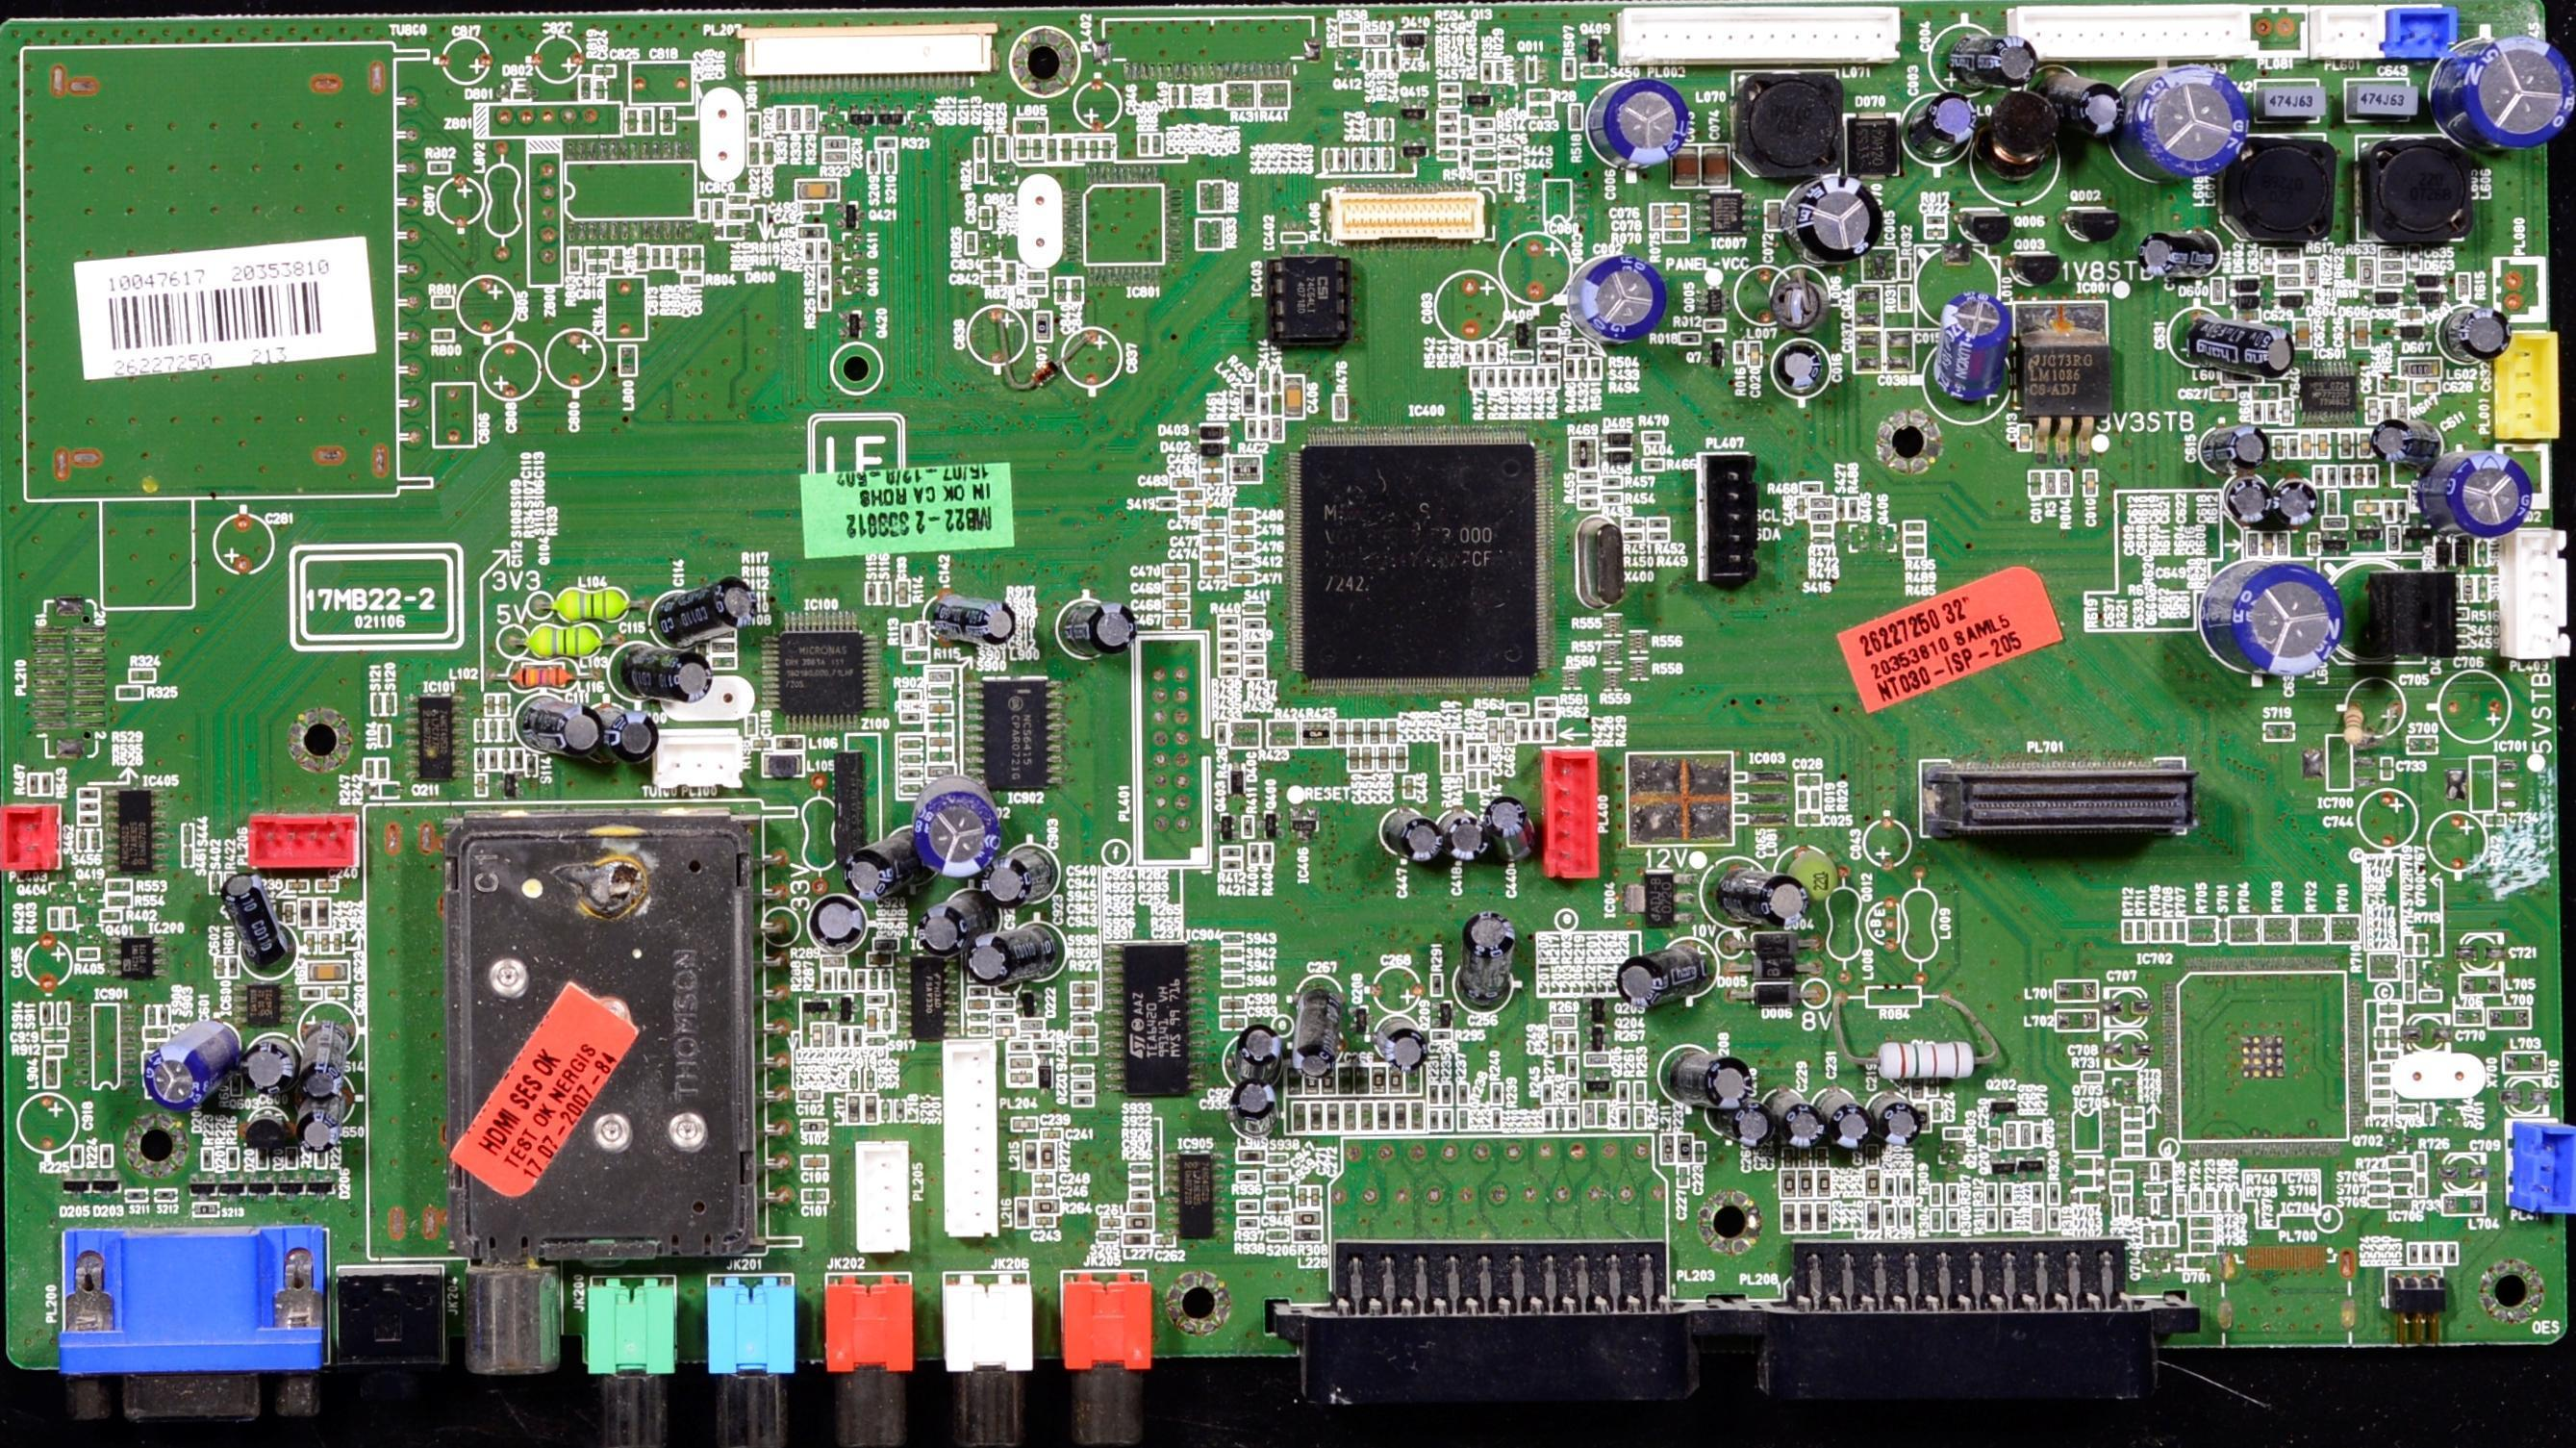Capacitor: (1913, 14, 2120, 179), (1688, 1045, 1924, 1132), (913, 894, 1072, 986), (1364, 794, 1539, 872), (2428, 665, 2534, 761), (1935, 280, 2009, 409), (1616, 939, 1713, 1010), (2184, 313, 2296, 374), (1456, 905, 1519, 1014), (1851, 286, 1925, 370), (1719, 861, 1812, 928), (842, 835, 934, 901), (1233, 1025, 1283, 1136), (2214, 482, 2319, 532), (1141, 548, 1202, 632), (1175, 504, 1273, 556), (1293, 982, 1346, 1077), (2324, 692, 2417, 744), (1334, 716, 1414, 774), (2356, 788, 2425, 852), (980, 848, 1067, 901), (2137, 223, 2217, 279), (2428, 809, 2489, 881), (620, 52, 698, 109), (2193, 421, 2273, 472), (1076, 76, 1140, 135), (2351, 70, 2423, 121), (1165, 449, 1231, 501), (1374, 1012, 1429, 1071), (1774, 338, 1831, 393), (627, 241, 705, 280), (2273, 431, 2374, 459), (1670, 143, 1730, 189), (2437, 1151, 2495, 1195), (2102, 988, 2150, 1029), (2103, 1028, 2151, 1069), (1525, 84, 1566, 131), (2454, 266, 2494, 307), (304, 958, 354, 985), (1281, 375, 1309, 424), (2232, 309, 2296, 329), (1048, 275, 1086, 310), (1467, 742, 1490, 792), (1779, 1145, 1833, 1165), (847, 1064, 880, 1095), (1484, 715, 1516, 748), (2205, 380, 2243, 405), (1136, 128, 1167, 159), (2453, 1003, 2487, 1031), (745, 709, 773, 743), (1222, 995, 1247, 1029), (300, 985, 356, 1002), (1226, 573, 1270, 594), (582, 243, 610, 274), (1070, 979, 1099, 1007), (34, 1024, 78, 1041), (980, 256, 1007, 286), (1762, 194, 1779, 241), (796, 1184, 834, 1204), (208, 947, 229, 981), (798, 1153, 831, 1173), (2355, 499, 2387, 520), (1032, 1171, 1057, 1195), (1298, 1184, 1324, 1208), (2294, 316, 2314, 349), (1794, 766, 1824, 787), (2412, 377, 2448, 395), (2015, 419, 2033, 453), (2354, 317, 2372, 346), (1199, 560, 1227, 579), (2081, 469, 2099, 500), (1007, 1115, 1040, 1130), (282, 877, 311, 896), (1666, 203, 1689, 227), (1264, 1169, 1292, 1185), (2351, 461, 2370, 486), (1924, 228, 1954, 244), (2260, 242, 2277, 273), (965, 997, 993, 1012), (1372, 1063, 1386, 1096), (1694, 1137, 1708, 1164), (1676, 1162, 1691, 1192), (1151, 1233, 1177, 1251), (795, 1086, 825, 1102), (1407, 1069, 1422, 1095), (976, 201, 992, 229), (1072, 1024, 1100, 1038), (1388, 1063, 1402, 1092), (1288, 1067, 1302, 1094), (1306, 1070, 1321, 1095), (2380, 755, 2398, 777), (1796, 812, 1823, 827), (1041, 1127, 1064, 1141), (926, 699, 950, 715), (1413, 1099, 1426, 1128), (1295, 1101, 1307, 1130), (1363, 1103, 1375, 1130), (1098, 1217, 1125, 1231), (1751, 340, 1763, 368), (2030, 467, 2042, 495), (316, 877, 338, 894), (1323, 1065, 1336, 1092), (2261, 530, 2273, 555), (1265, 1201, 1289, 1212), (1129, 1202, 1156, 1213), (866, 1010, 877, 1034), (1402, 51, 1427, 62), (1988, 1128, 2002, 1149), (1795, 498, 1808, 520), (929, 735, 950, 748), (1037, 1216, 1055, 1227), (850, 1043, 851, 1044)
Connector: (1953, 200, 2020, 247), (2065, 202, 2126, 242), (2006, 248, 2067, 288), (2415, 268, 2456, 309), (2228, 276, 2265, 309), (2389, 320, 2435, 343), (2367, 288, 2405, 308), (2270, 295, 2306, 312)
IC: (759, 597, 892, 734), (1622, 743, 1790, 844), (1063, 167, 1182, 300), (961, 674, 1078, 806), (1109, 937, 1203, 1100), (72, 989, 140, 1085), (401, 691, 469, 785), (1164, 1138, 1230, 1236), (103, 782, 172, 873), (897, 954, 968, 1040), (1613, 869, 1710, 927), (2300, 730, 2380, 798), (2445, 753, 2526, 818), (2293, 357, 2362, 426), (101, 929, 182, 986), (1694, 187, 1755, 243), (1540, 176, 1589, 236), (2066, 1103, 2110, 1155), (1683, 284, 1736, 318), (1287, 802, 1326, 842)
Resistor: (656, 725, 753, 790), (2232, 913, 2361, 947), (228, 976, 305, 1032), (2366, 1000, 2404, 1110), (27, 1094, 72, 1164), (1226, 720, 1329, 750), (1223, 78, 1294, 117), (1468, 365, 1563, 393), (1573, 470, 1630, 511), (2114, 1094, 2154, 1156), (1188, 174, 1239, 219), (1188, 216, 1247, 255), (2113, 917, 2190, 947), (1429, 1081, 1473, 1130), (2069, 1156, 2107, 1208), (1778, 1166, 1833, 1201), (1004, 261, 1049, 300), (2177, 1185, 2243, 1213), (1335, 15, 1391, 47), (90, 905, 177, 925), (103, 874, 173, 897), (97, 893, 172, 913), (2405, 1237, 2459, 1265), (1622, 515, 1677, 543), (577, 66, 617, 104), (1808, 499, 1838, 548), (774, 101, 819, 135), (1900, 518, 1933, 559), (1985, 1181, 2013, 1231), (2031, 1181, 2059, 1231), (1560, 432, 1604, 464), (18, 770, 63, 799), (42, 902, 83, 934), (798, 172, 843, 200), (1217, 845, 1252, 877), (2188, 1213, 2216, 1253), (2187, 914, 2223, 945), (894, 574, 924, 611), (1443, 729, 1466, 776), (1519, 718, 1559, 743), (1561, 27, 1579, 81), (2043, 467, 2075, 498), (1228, 550, 1269, 575), (1536, 324, 1563, 362), (1460, 342, 1505, 364), (2356, 252, 2380, 290), (423, 154, 460, 179), (126, 662, 164, 686), (1234, 1196, 1264, 1229), (821, 136, 852, 165), (2380, 254, 2407, 287), (1885, 1200, 1915, 1230), (1629, 656, 1656, 687), (1070, 1079, 1097, 1109), (1557, 667, 1588, 694), (361, 755, 392, 782), (2304, 255, 2326, 290), (972, 136, 988, 185), (2315, 465, 2351, 487), (1627, 627, 1652, 655), (111, 681, 147, 703), (2402, 929, 2431, 955), (1884, 1173, 1915, 1199), (1245, 841, 1276, 866), (821, 968, 853, 991), (426, 288, 458, 311), (2249, 400, 2281, 423), (1673, 330, 1708, 348), (1334, 382, 1352, 423), (1438, 111, 1460, 144), (1476, 116, 1498, 147), (1700, 316, 1736, 334), (1492, 1082, 1506, 1130), (1600, 611, 1625, 638), (1600, 639, 1625, 665), (1604, 669, 1626, 696), (1795, 787, 1823, 811), (1037, 1141, 1058, 1170), (225, 945, 241, 982), (2414, 1151, 2428, 1198), (1308, 1101, 1326, 1131), (225, 1143, 243, 1173), (2281, 261, 2300, 291), (924, 667, 954, 686), (1561, 1082, 1583, 1106), (2076, 1069, 2108, 1087), (1537, 695, 1556, 722), (1326, 1101, 1342, 1134), (430, 327, 460, 345), (1730, 336, 1748, 366), (894, 685, 924, 702), (1660, 231, 1692, 245), (1392, 1102, 1410, 1130), (2276, 530, 2292, 558), (41, 1042, 71, 1059), (1920, 213, 1954, 227), (1354, 1063, 1371, 1093), (2393, 394, 2411, 421), (1150, 495, 1178, 509), (901, 622, 917, 651), (1425, 1029, 1459, 1042), (795, 198, 825, 212), (1437, 81, 1466, 95), (1641, 428, 1669, 445), (1429, 971, 1448, 994), (996, 1001, 1013, 1024), (1337, 1064, 1351, 1093), (1589, 355, 1603, 385), (2365, 461, 2380, 488), (1235, 1168, 1260, 1183), (1562, 358, 1578, 382), (2247, 531, 2262, 555), (898, 709, 923, 726), (1564, 342, 1590, 356), (1345, 1101, 1356, 1131), (569, 244, 582, 274), (1849, 495, 1861, 524), (1506, 701, 1529, 717), (1946, 1178, 1959, 1206), (1032, 1200, 1060, 1213), (1929, 1207, 1943, 1232), (1641, 455, 1667, 470), (2387, 1156, 2413, 1169), (874, 136, 901, 149), (201, 1144, 213, 1174), (2379, 372, 2392, 397), (1458, 146, 1472, 168), (1800, 480, 1821, 495), (1542, 1082, 1554, 1105), (1931, 1181, 1943, 1205), (1070, 1012, 1097, 1023), (1379, 1104, 1391, 1130), (1130, 1189, 1156, 1201), (1948, 1210, 1960, 1232), (1545, 1105, 1555, 1128), (2392, 1198, 2411, 1210), (226, 864, 234, 876), (170, 892, 173, 896)
Transistor: (1190, 419, 1236, 454), (876, 95, 915, 136), (844, 97, 881, 137), (1992, 1153, 2047, 1177), (2403, 519, 2439, 553), (2351, 519, 2387, 553), (1395, 98, 1430, 130), (1582, 1068, 1613, 1099), (1580, 32, 1613, 62), (1398, 138, 1436, 164), (1210, 812, 1240, 844), (1467, 86, 1497, 114), (1583, 996, 1611, 1027), (2320, 530, 2349, 558), (1258, 810, 1287, 840), (1229, 757, 1250, 798), (1938, 241, 1973, 265), (1583, 1030, 1614, 1055), (1037, 1055, 1055, 1095), (1393, 30, 1435, 46), (1432, 999, 1454, 1029), (804, 997, 832, 1017), (840, 997, 858, 1026), (866, 953, 896, 968), (871, 940, 899, 953), (1991, 1101, 2014, 1114)
